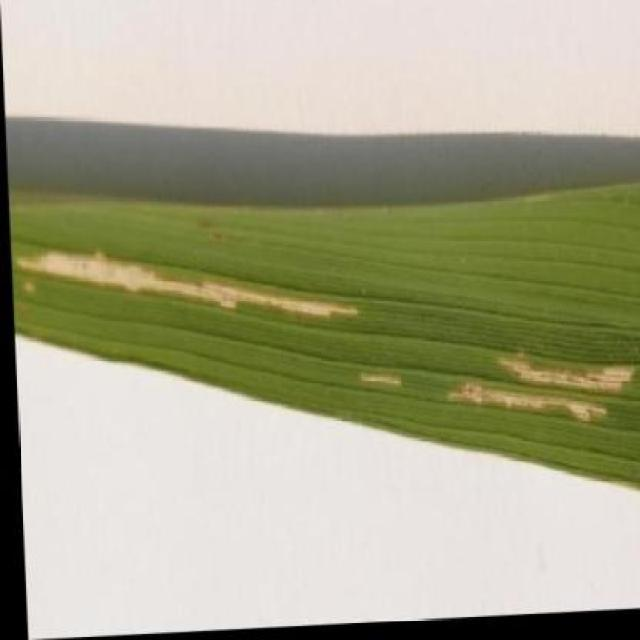Brown_Spot: (8, 170, 640, 542)
